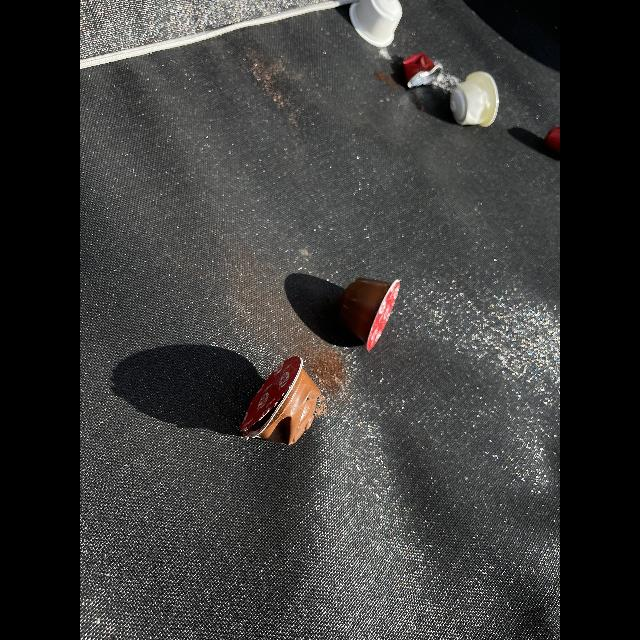damaged_capsule: (232, 351, 326, 455)
intact_capsule: (333, 273, 407, 355)
